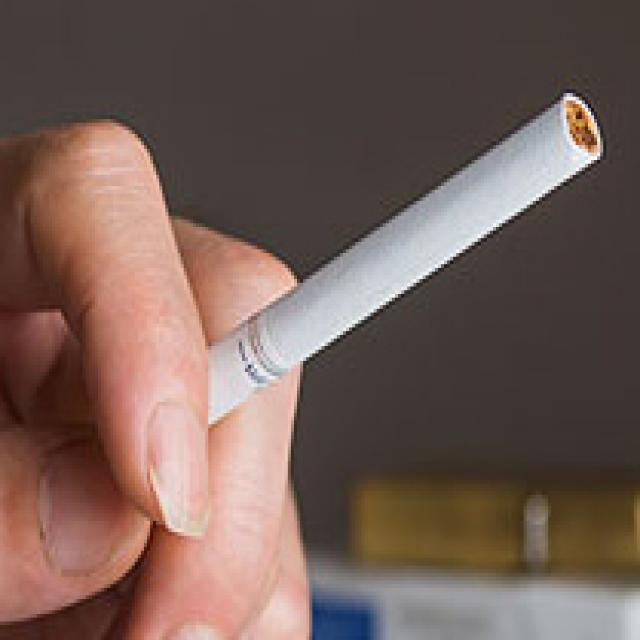smoking: (182, 88, 606, 428)
